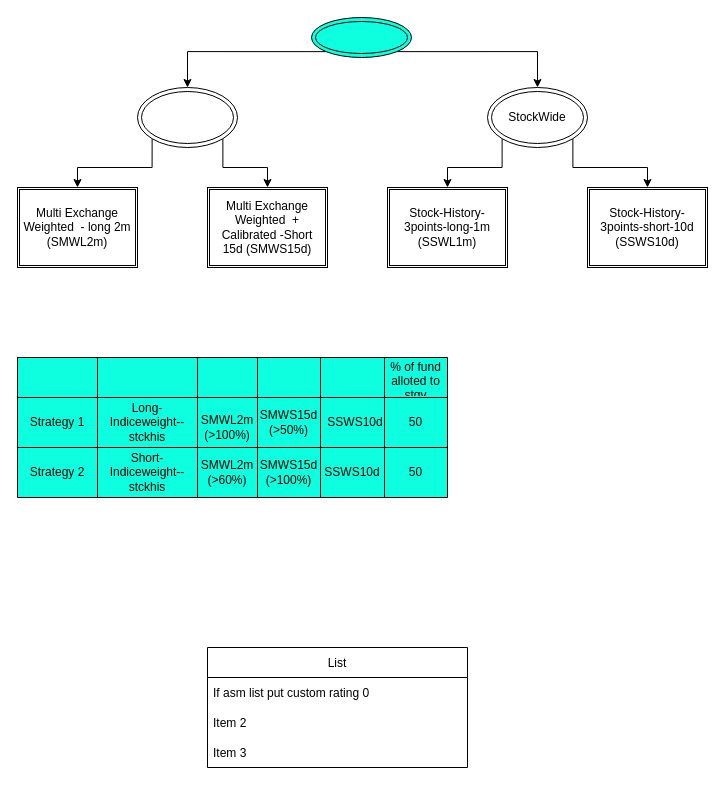
Image size: 725x785. Some labels were removed from this diagram. The centre of each missing label's shape, as x and y in pixels:
MarketWide: (x=187, y=117)
Strategies: (x=361, y=37)
